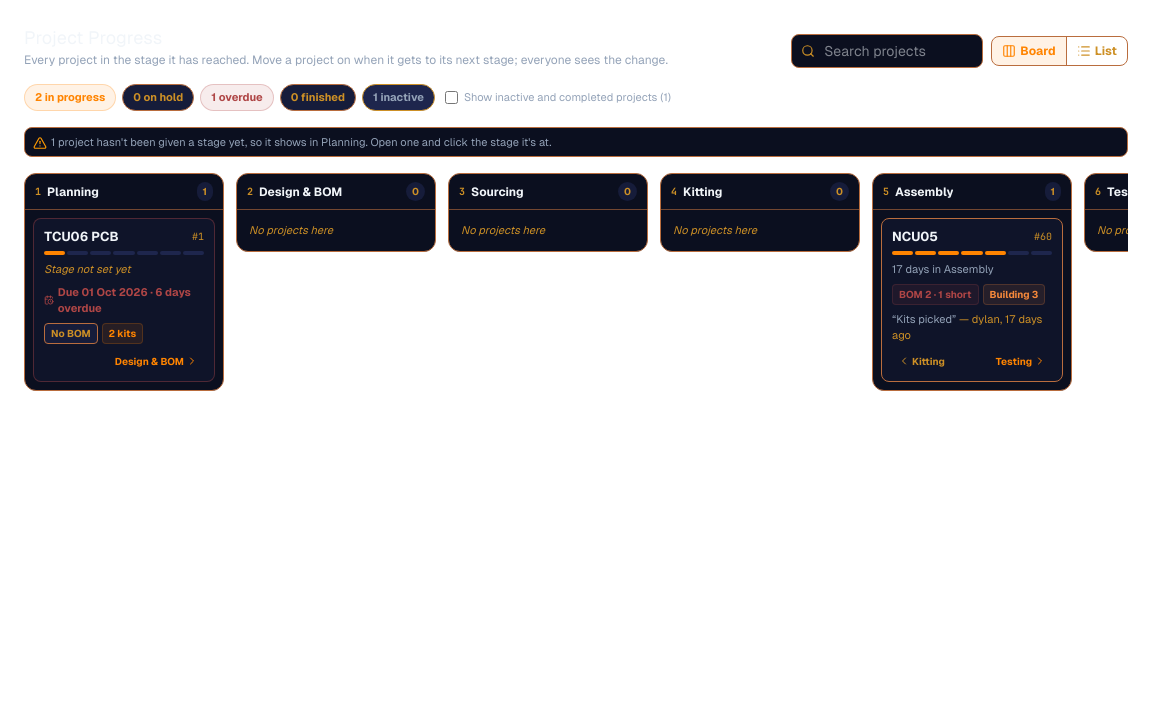
it: ProjectProgressView › shows every project in the column of the stage it is at, with what the app knows about it
Expected: the element with test id "project-card-60" shows "NCU05", [892,229,938,245]
Expected: the element with test id "project-card-60" shows "17 days in Assembly", [892,263,994,275]
Step 1. Click the checkbox labelled "Show inactive and completed projects (1)" → (452, 97), box [445,91,458,104]
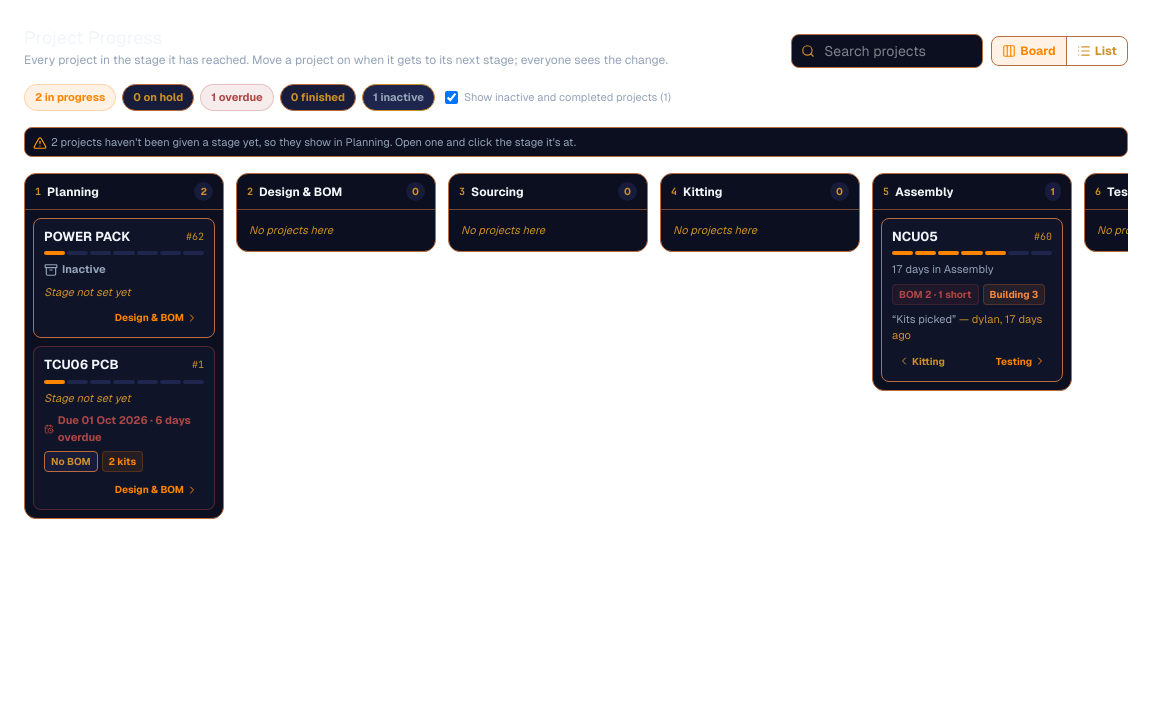
Expected: the element with test id "project-card-62" is shown, [33,218,215,338]
